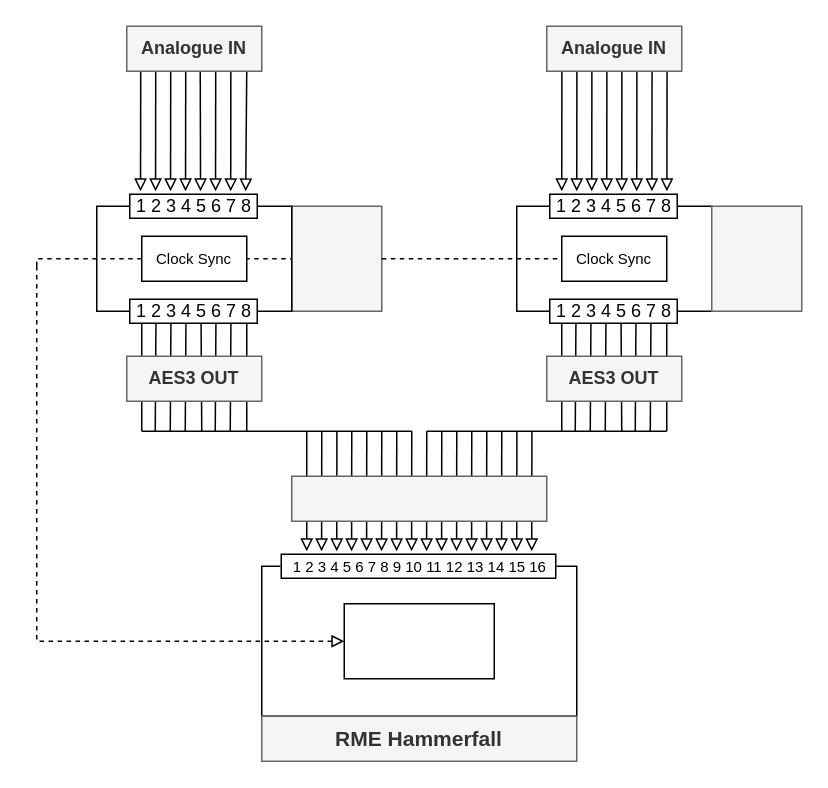
Image size: 828x788. Some labels were removed from this diagram. Each missing label, with the centre of its shape:
ADC 1: (x=336, y=258)
ADC 2: (x=756, y=258)
AES3 IN: (x=418, y=498)
Clock Master: (x=418, y=640)
